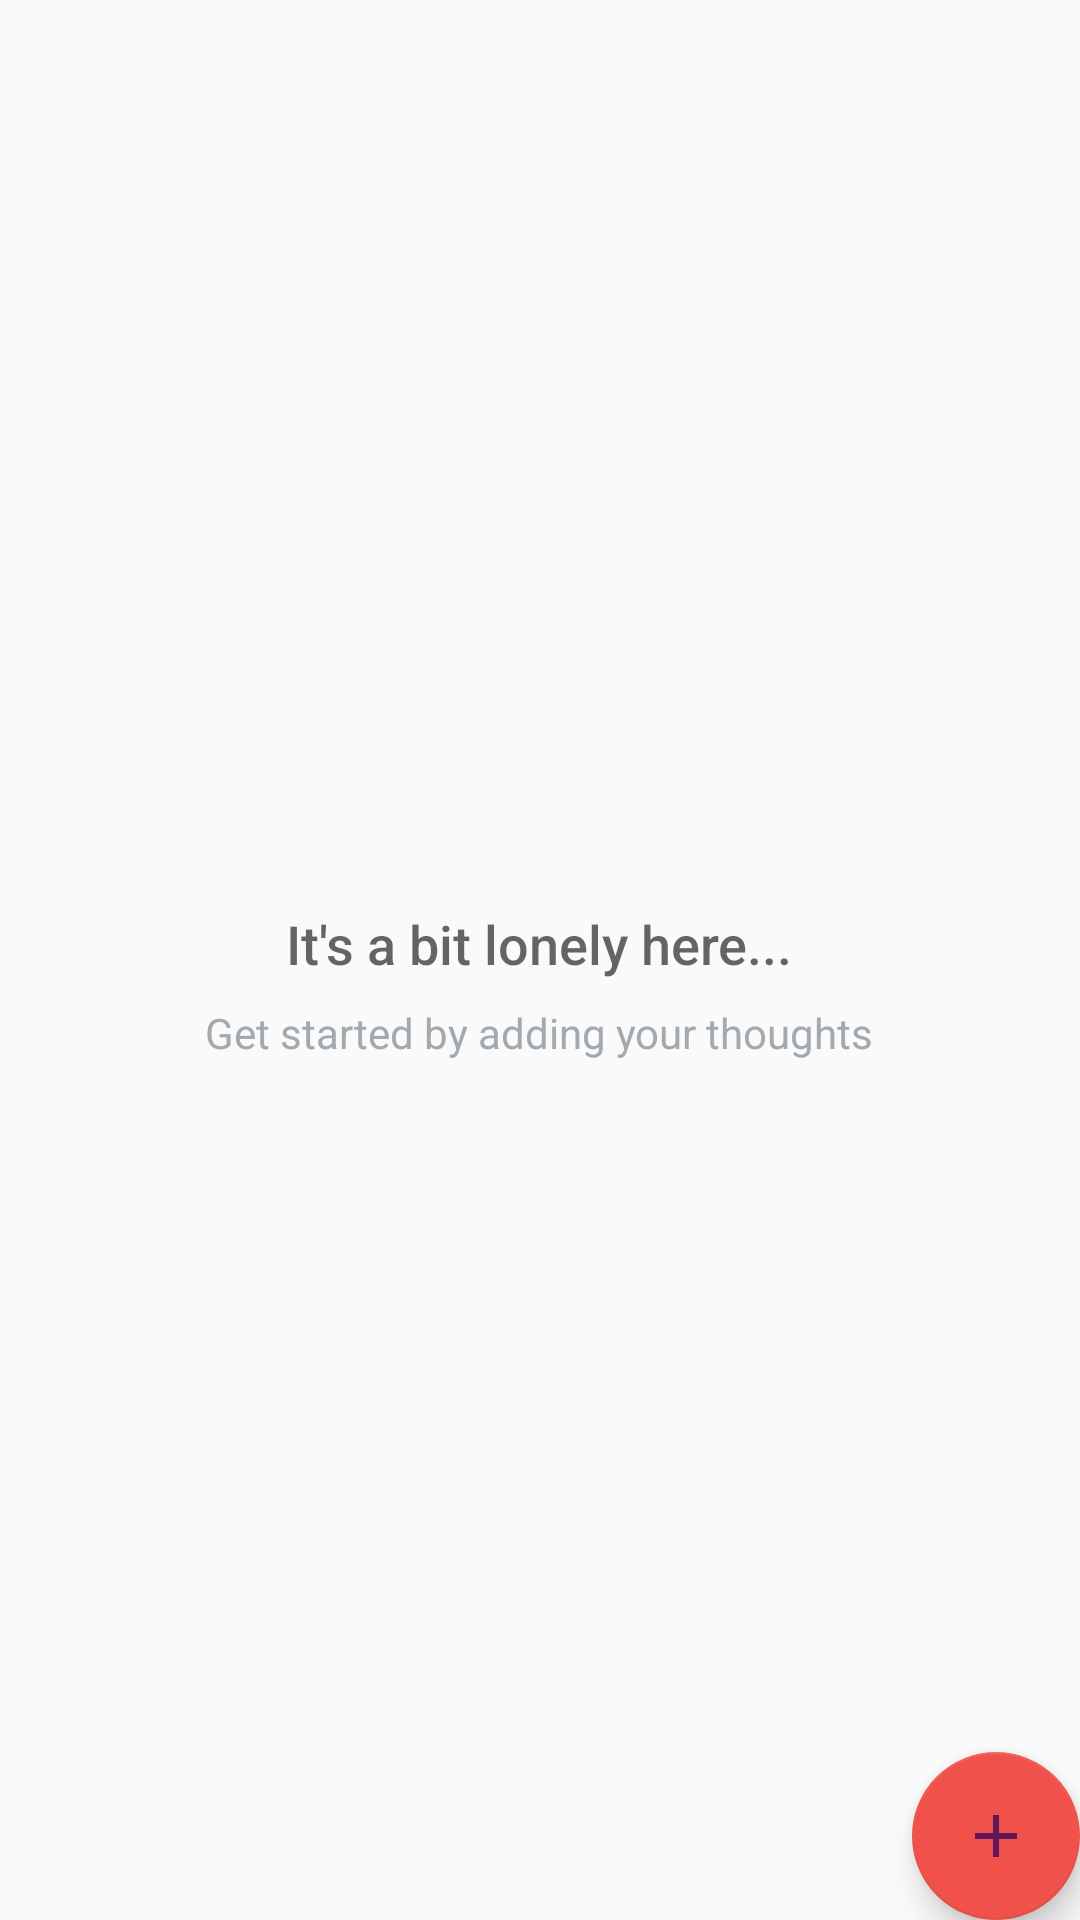

Locate icon controls on the screen. Image size 1080 x 1920, boxes as detection(x1, y1, x2, y2).
add thought: detection(912, 1752, 1080, 1920)
